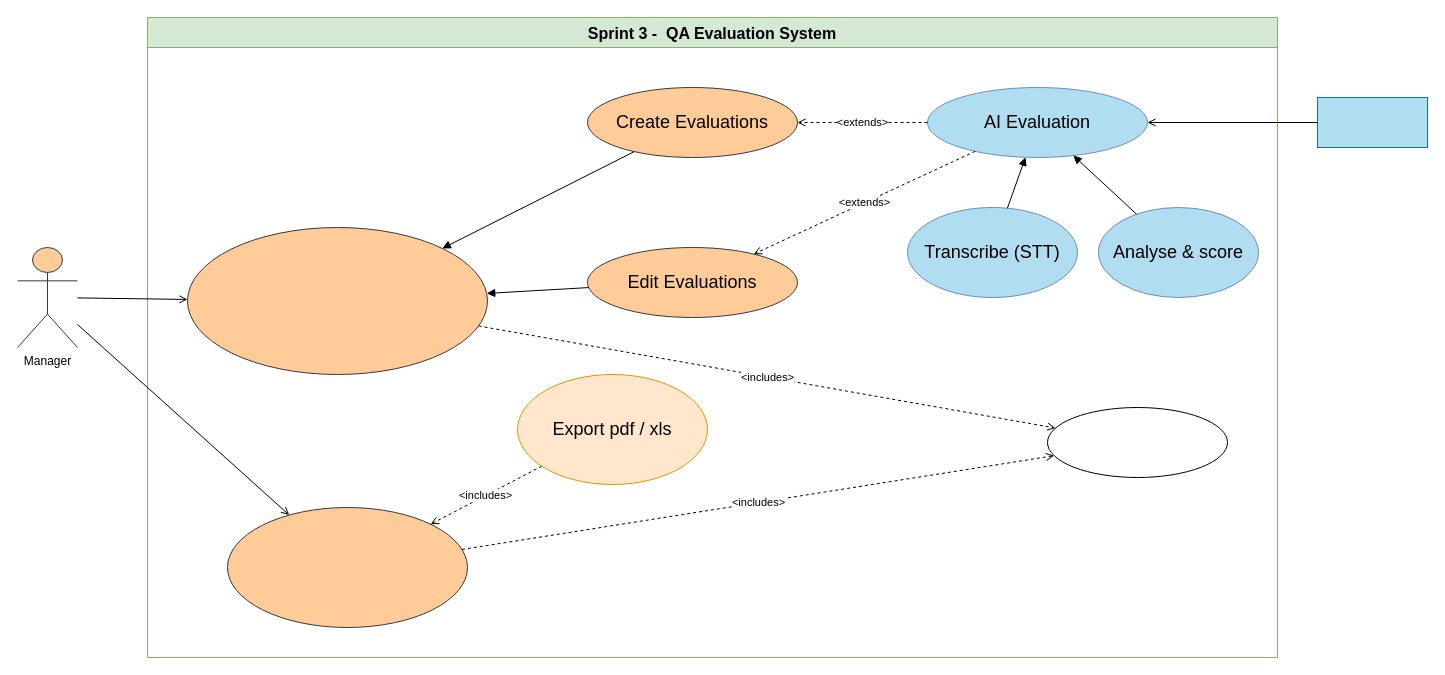
Some shapes in this 1445 by 675 pixel diagram are drawn without their labels. Here are the shapes that lost their labels. From the top down, the box of each, then its label:
(1316, 96, 1428, 148): «system» AI Agent
(186, 226, 488, 374): Manage Evaluations
(1046, 406, 1228, 478): Login
(226, 506, 468, 628): Generate Reports
